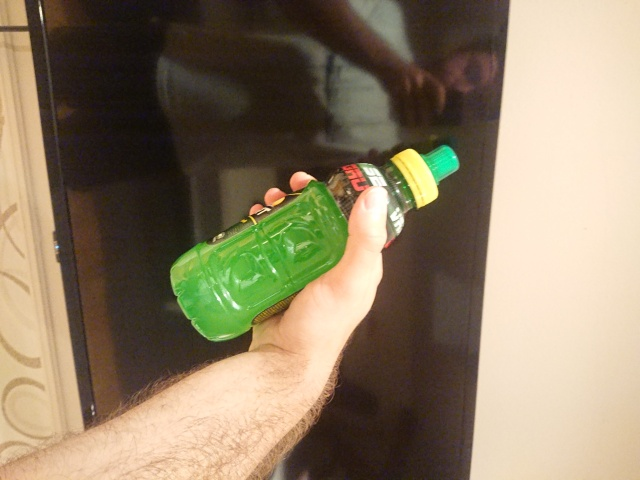Vindi Iso Sport Lemon-Grapefruit 500mL: (166, 142, 463, 345)
